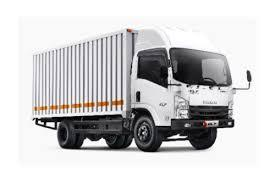truck: (124, 26, 257, 155)
